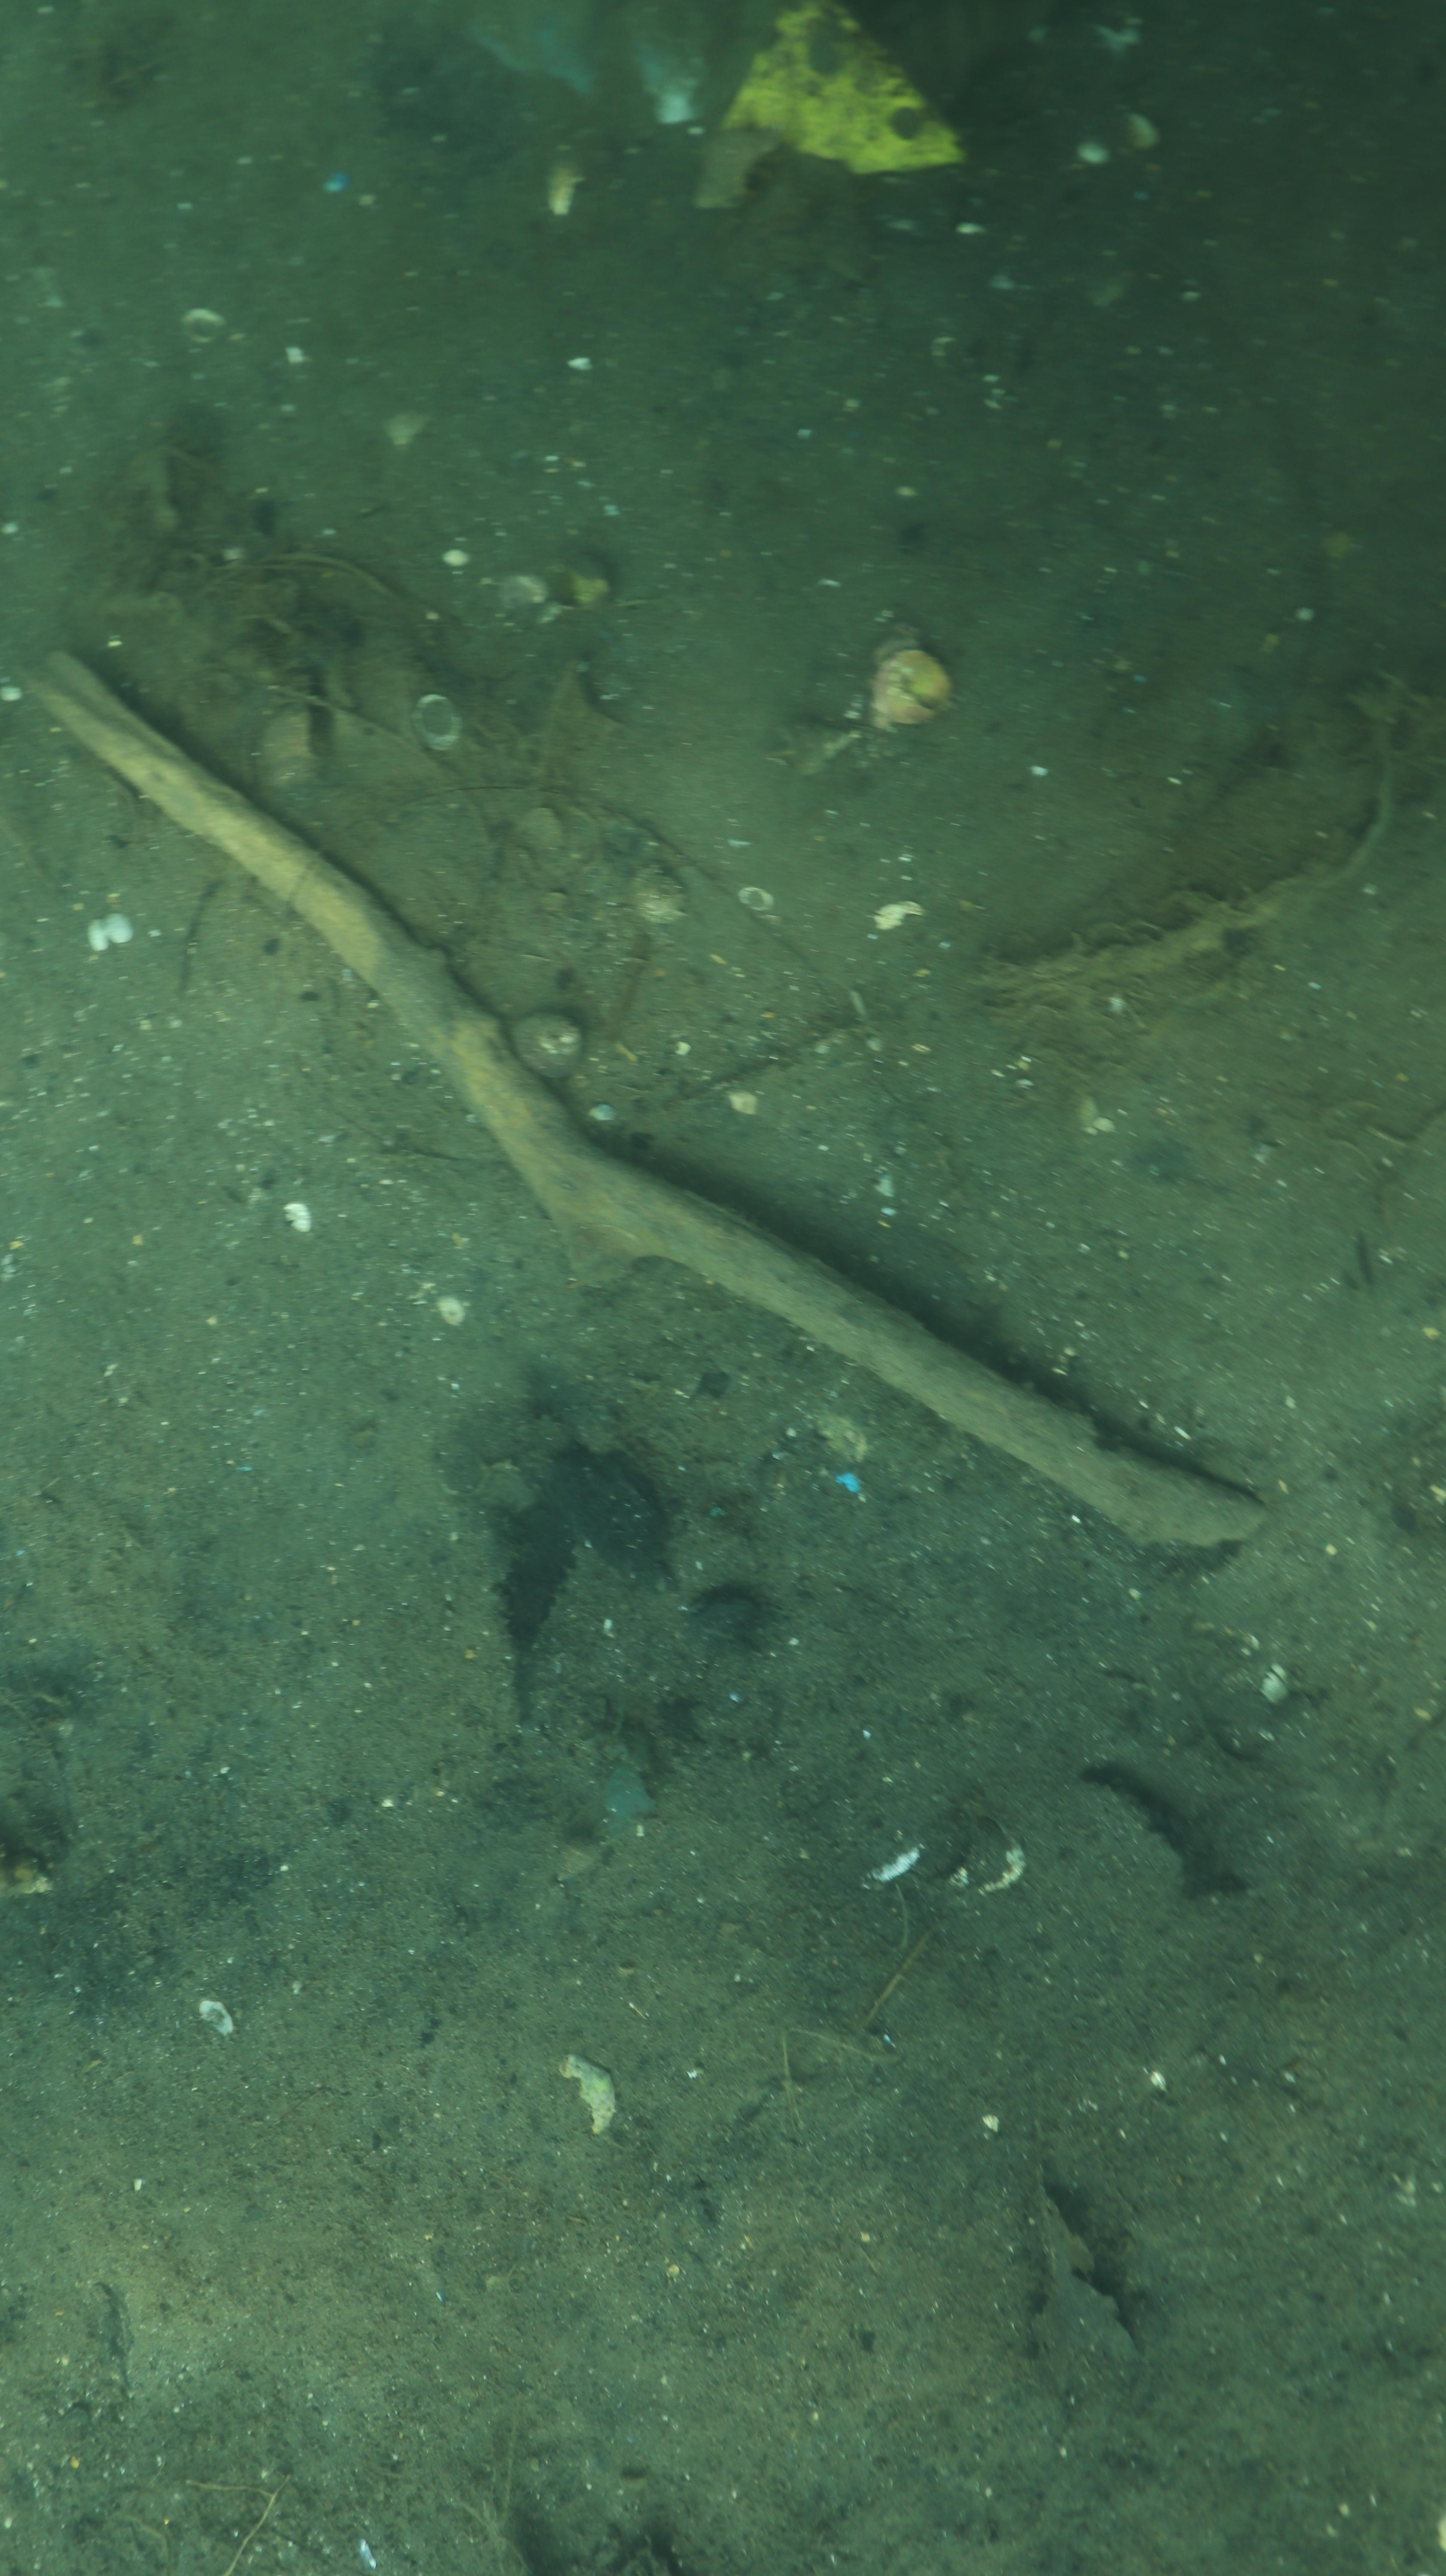wood: (9, 644, 1269, 1548)
